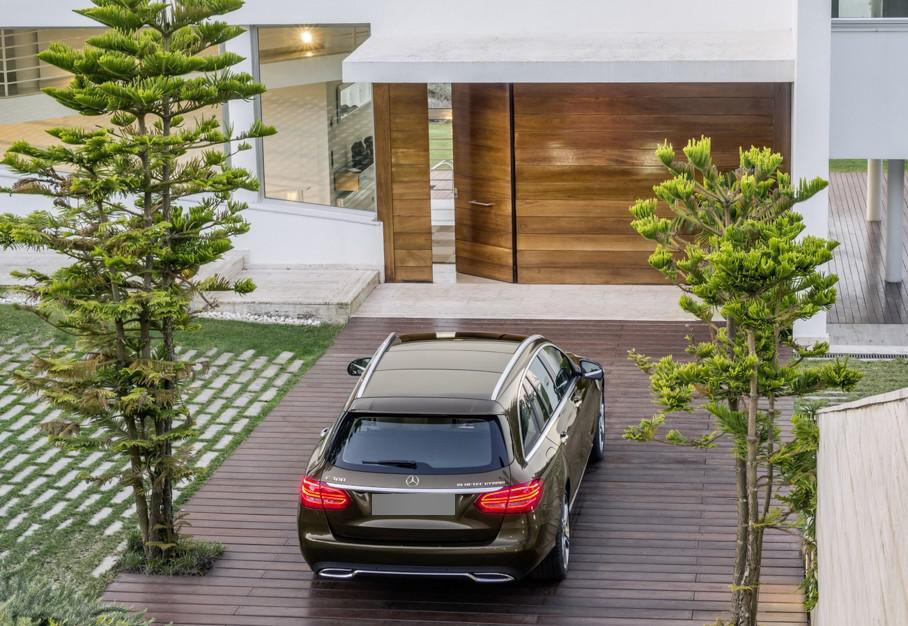Wagon: (297, 331, 608, 586)
